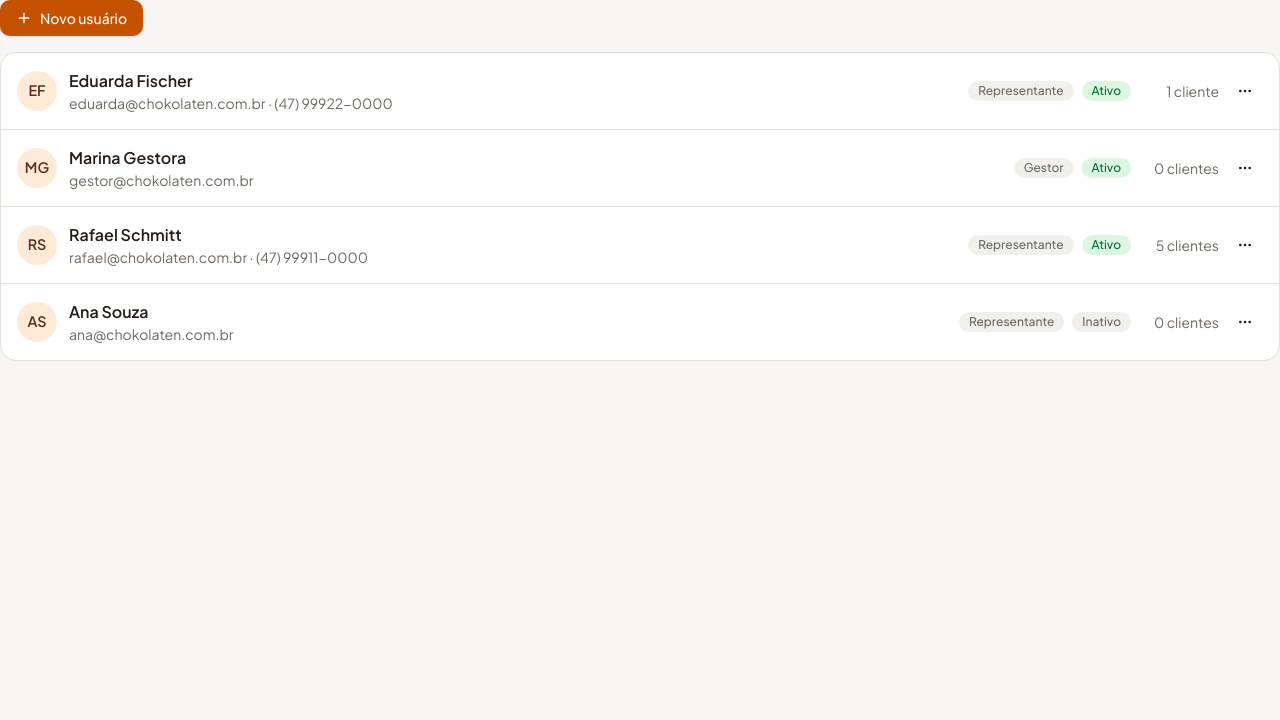
Test: UsuariosPage › erro da transferência aparece no painel
The width and height of the screenshot is (1280, 720).
Click the button named "Ações de Rafael Schmitt": (1245, 245) [1227,227,1263,263]
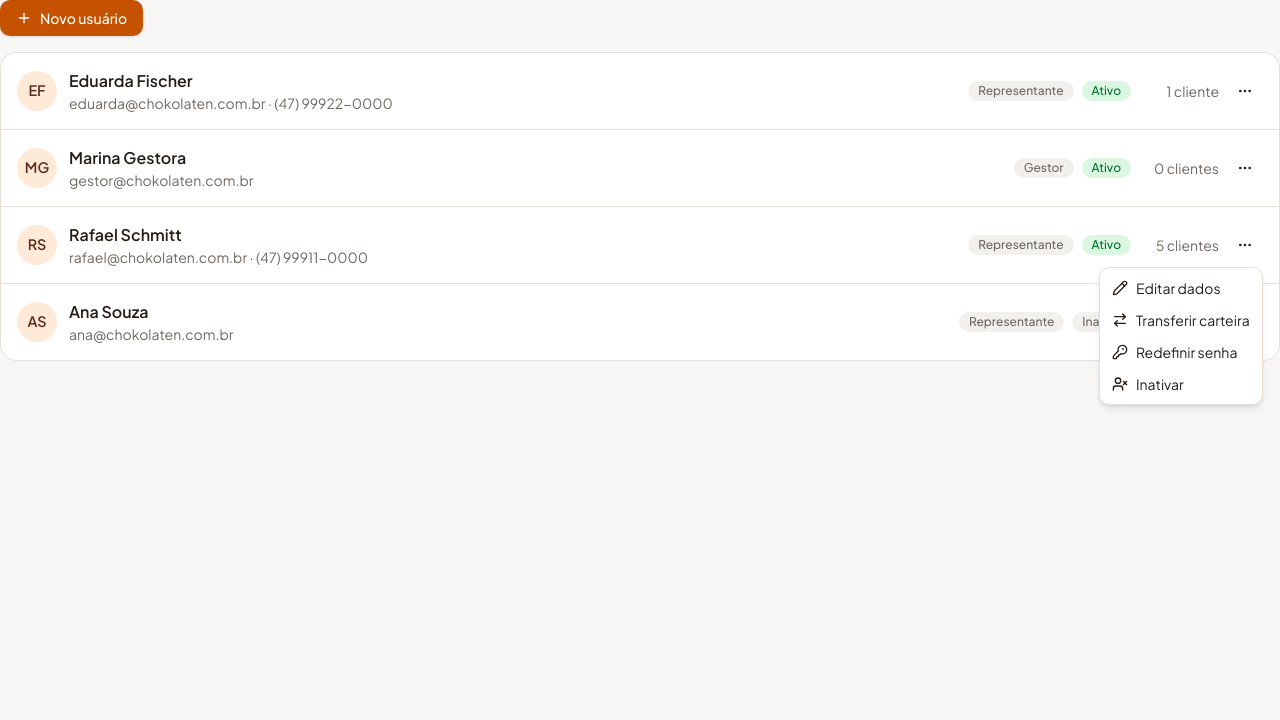
Click the menu item "Transferir carteira": (1181, 320) [1112,311,1250,329]
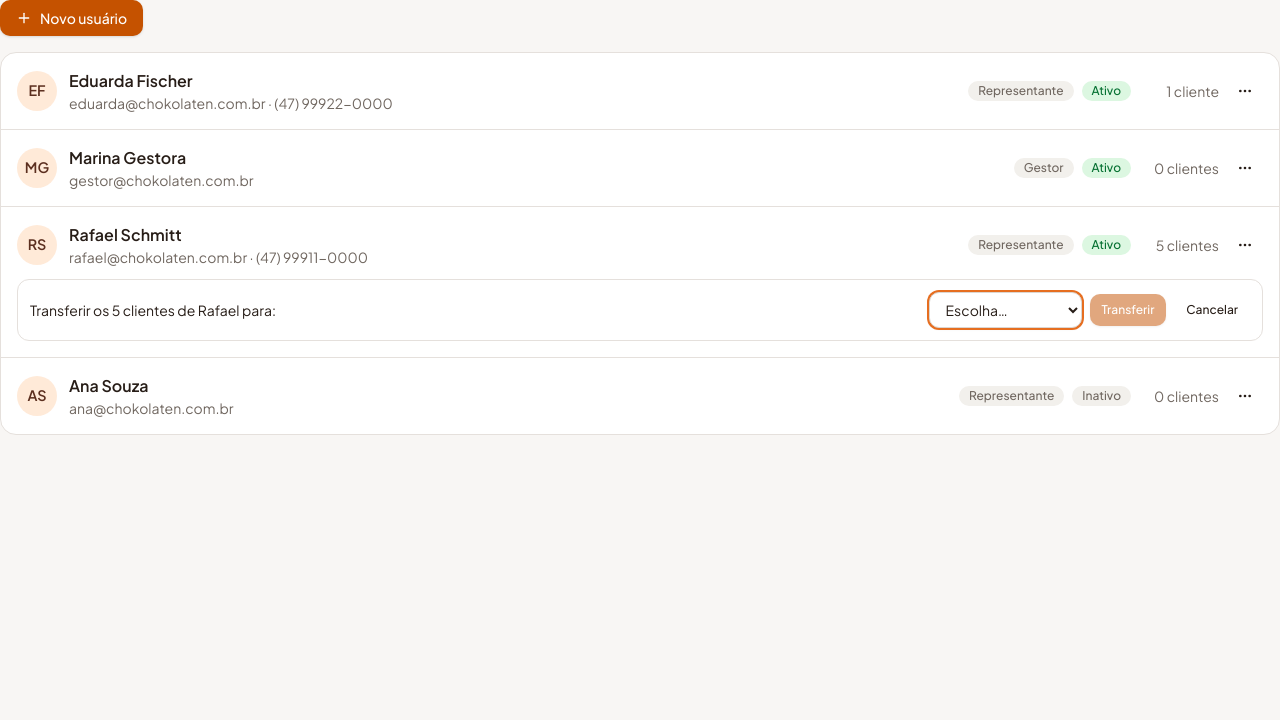
Select "Eduarda Fischer" in the dropdown named "Representante de destino": (1005, 310) [928,292,1082,328]
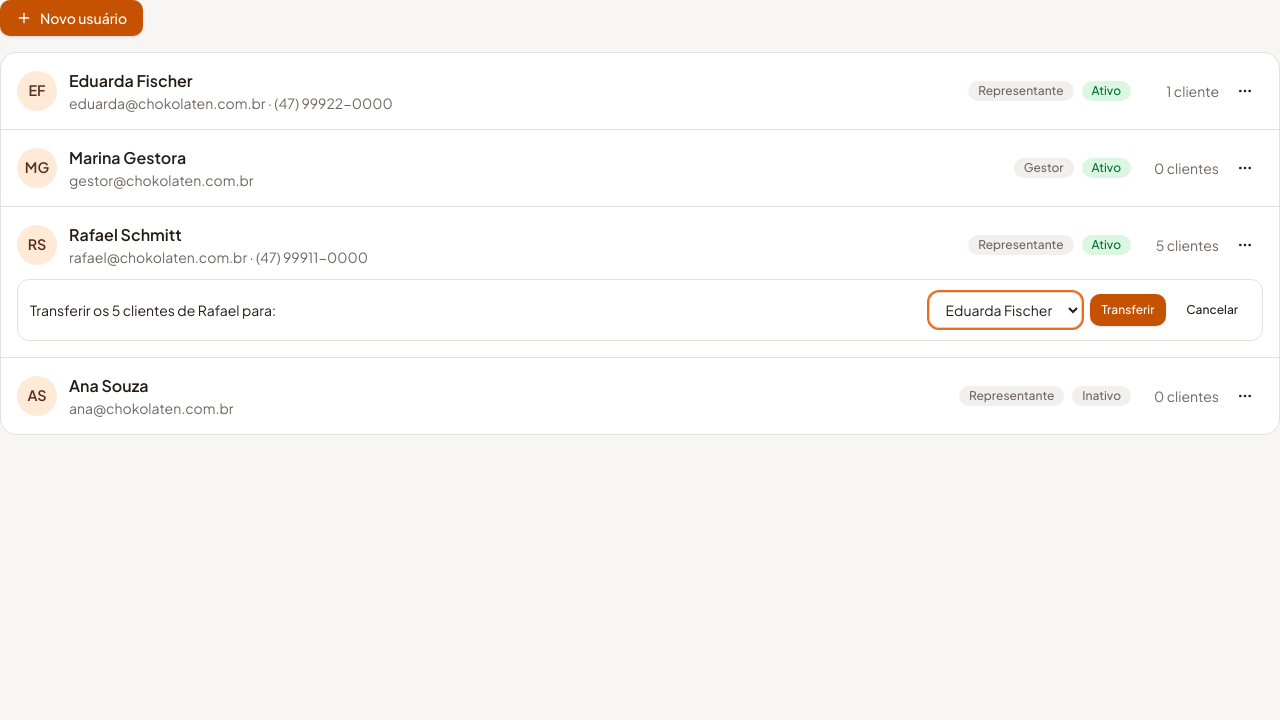
Click the button "Transferir": (1128, 310) [1090,294,1166,326]
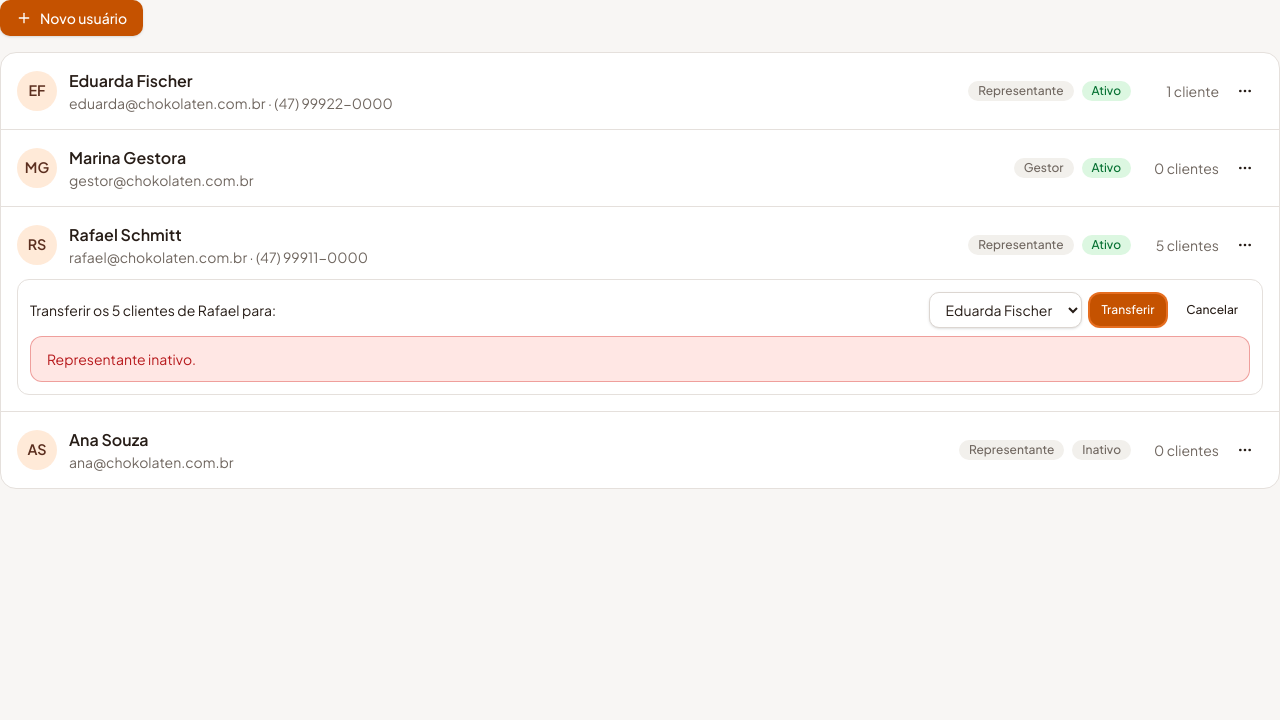
Expected: the message reads "Representante inativo.", [47,350,196,368]
